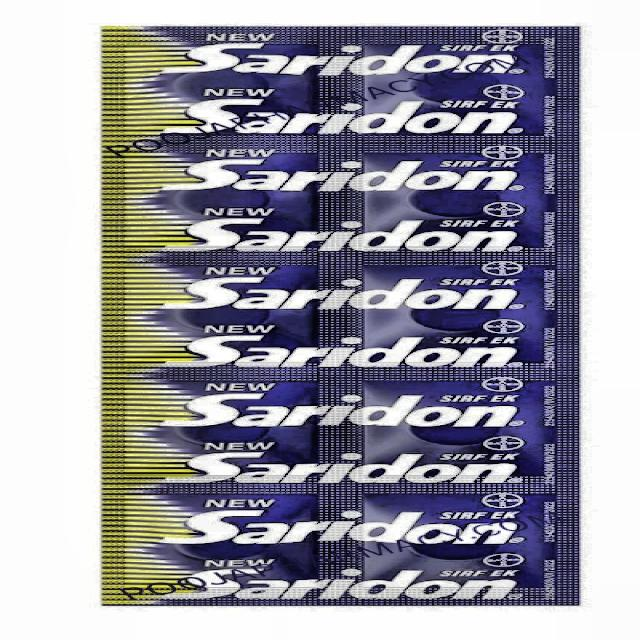Saridon: (110, 32, 578, 600)
